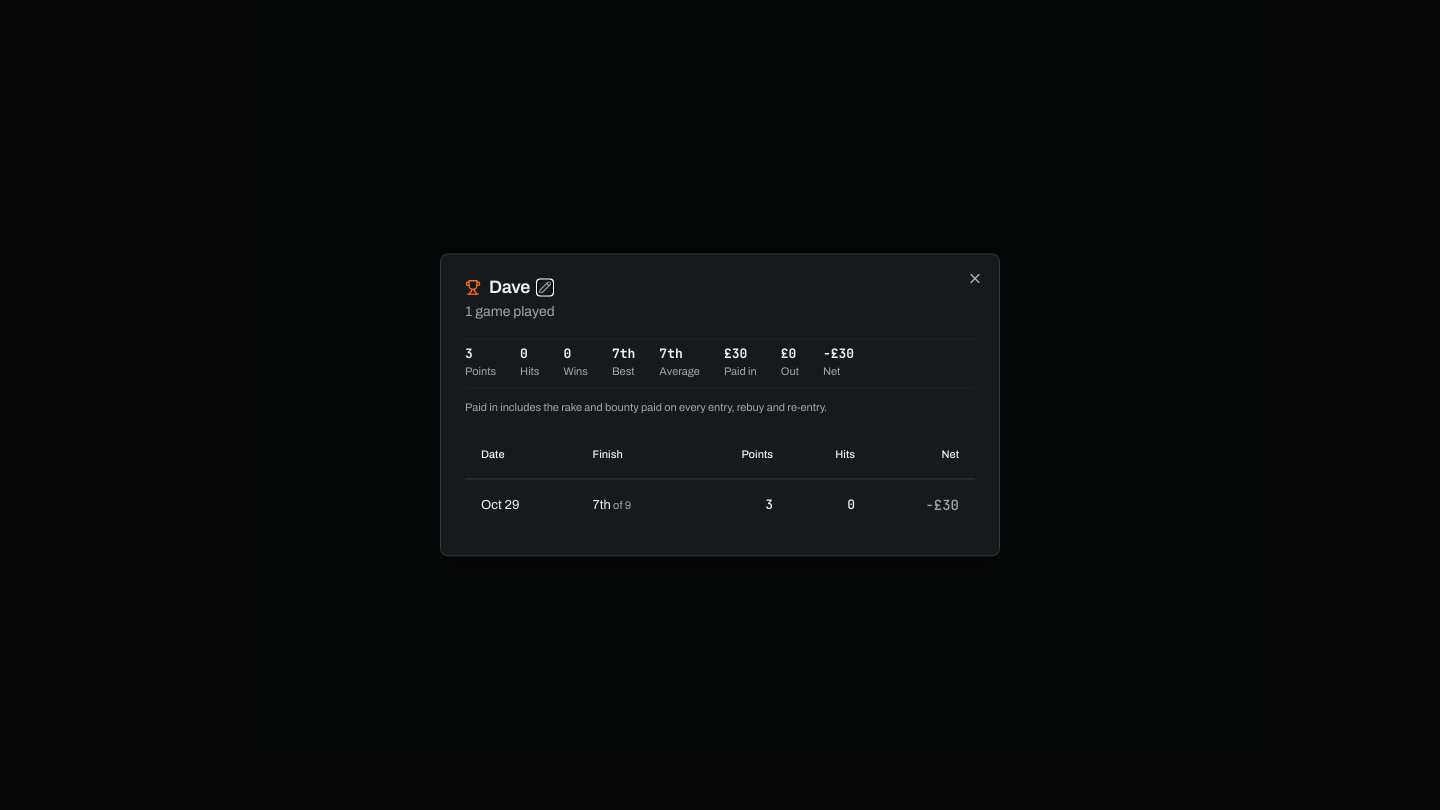
Test: PlayerSeasonDialog › shows the refusal and does not rename
Click the button named "Rename Dave" at (545, 287), box [538,280,552,294]
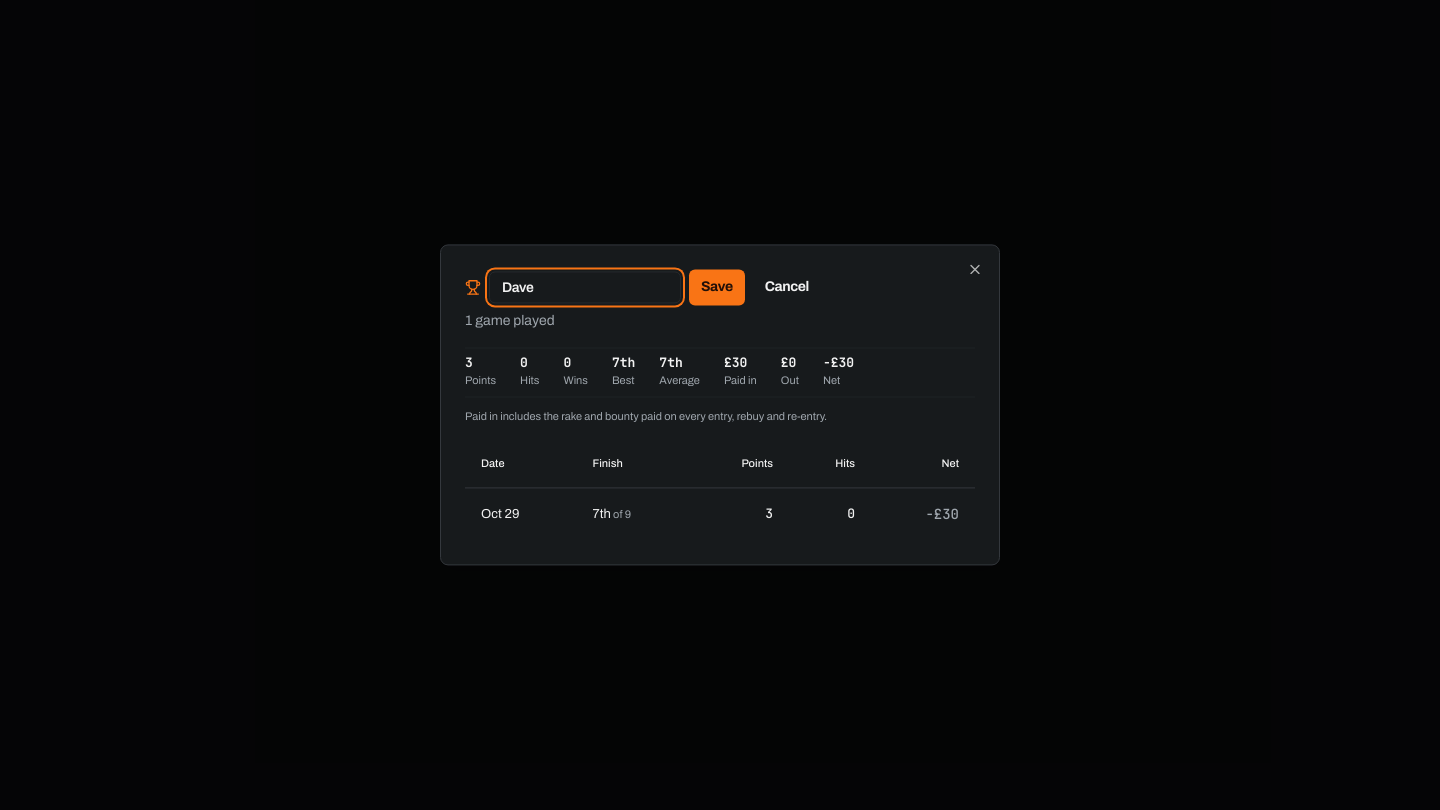
Replace the text in the field named "Player name" with "David" at (585, 287), box [489,271,681,303]
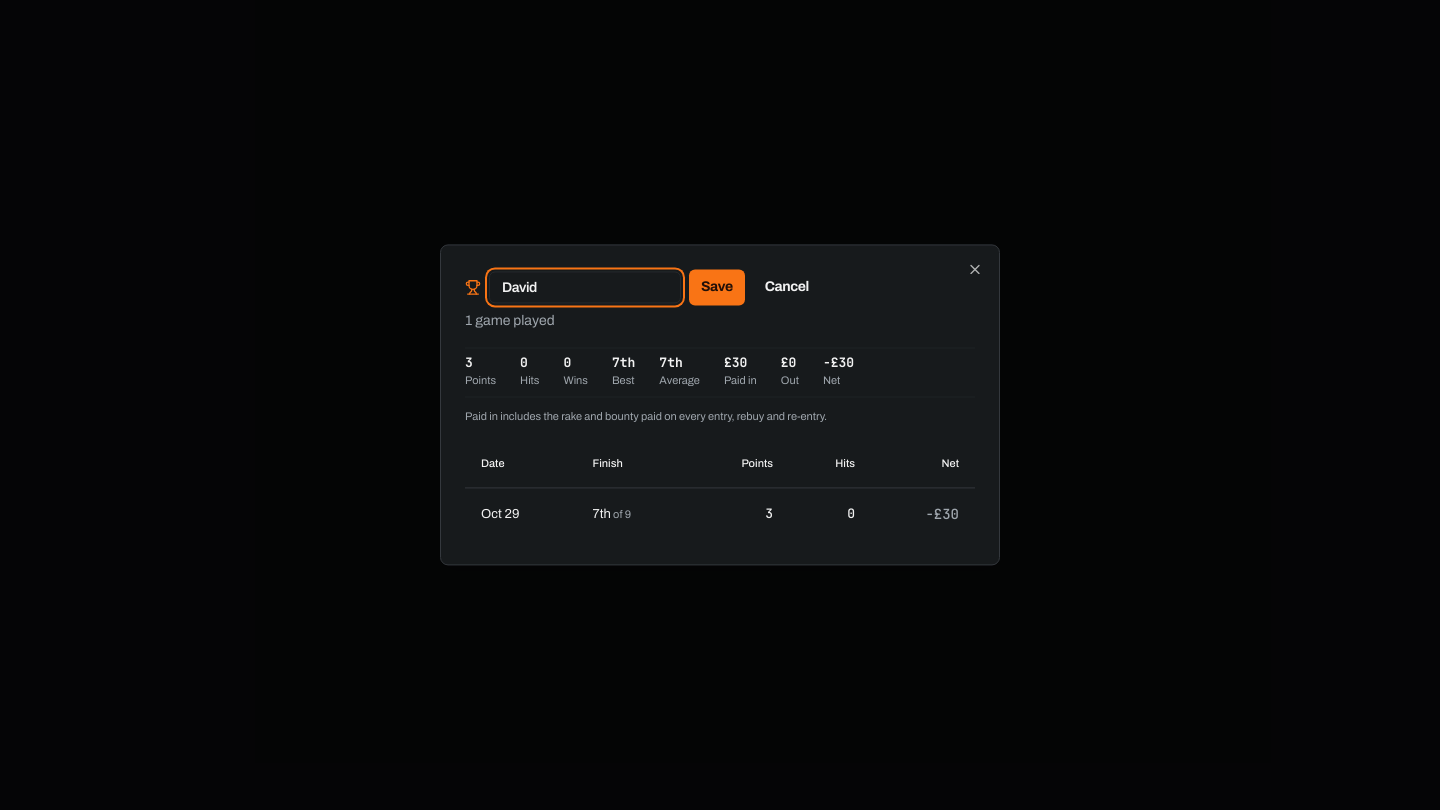
Click the button "Save" at (717, 287), box [689,269,745,305]
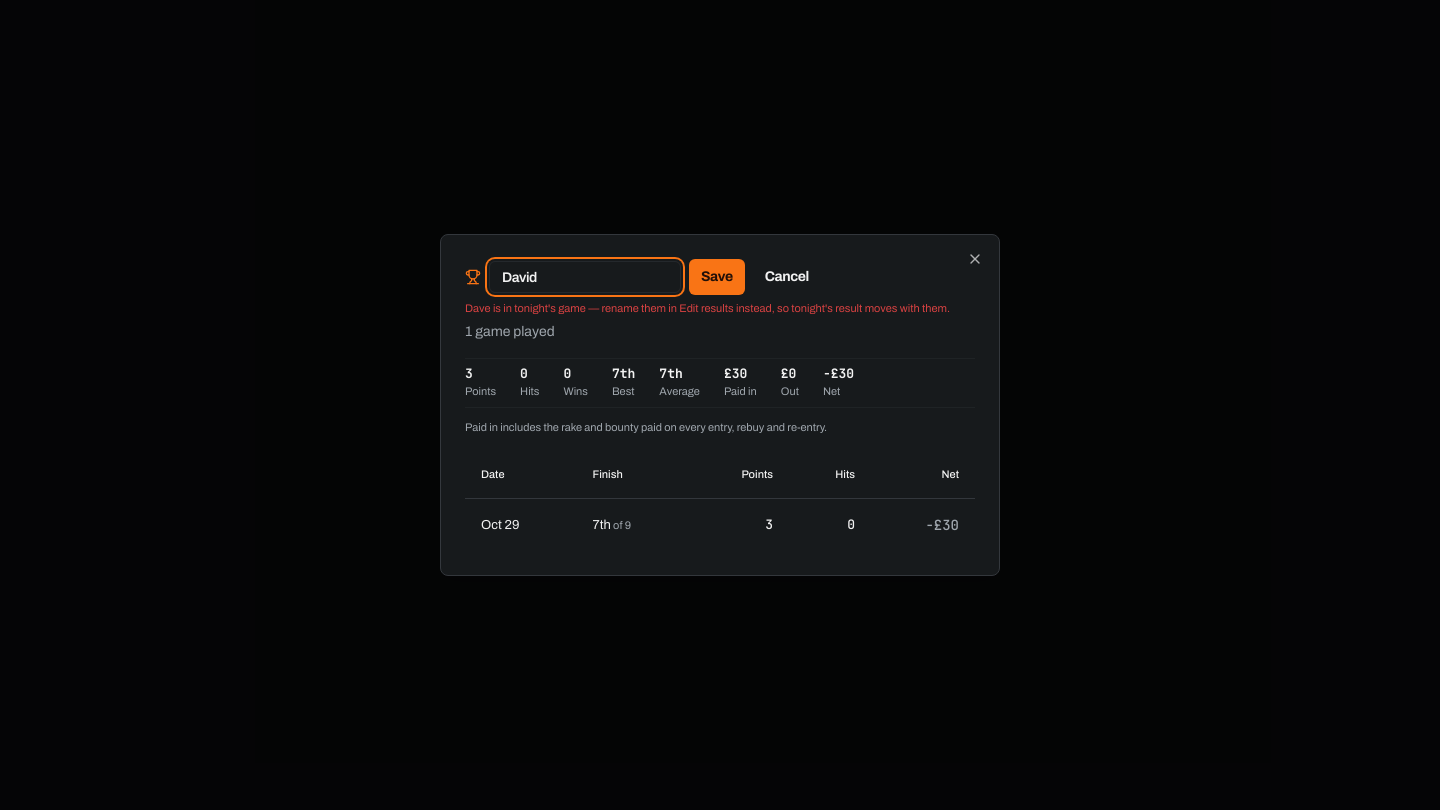
Check: the message shows "Edit results", box [465,302,950,314]
